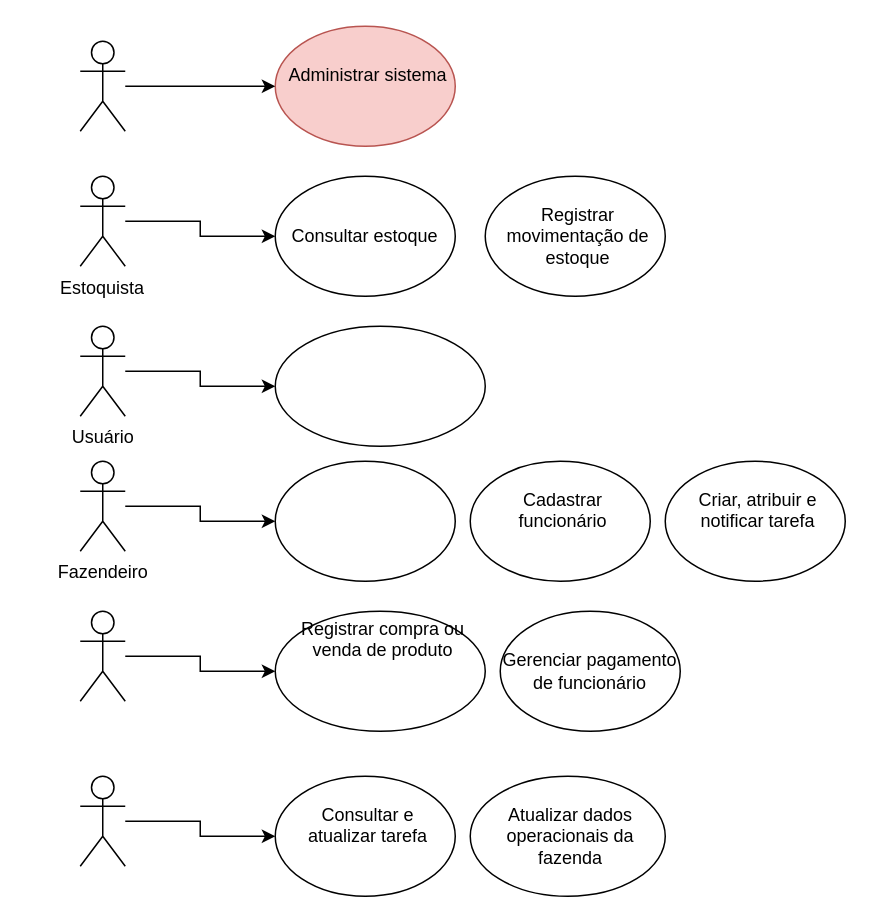
Image size: 872x924. Some labels were removed from this diagram. The shapes that lost their labels are listed below. From the top down, each one's centre as x and y in pixels, then its label:
(x=102, y=85): Administrador
(x=379, y=385): Autenticar usuário e acessar dashboard
(x=364, y=520): Consultar dados da fazenda
(x=102, y=655): Gerente Financeiro
(x=102, y=820): Funcionário
